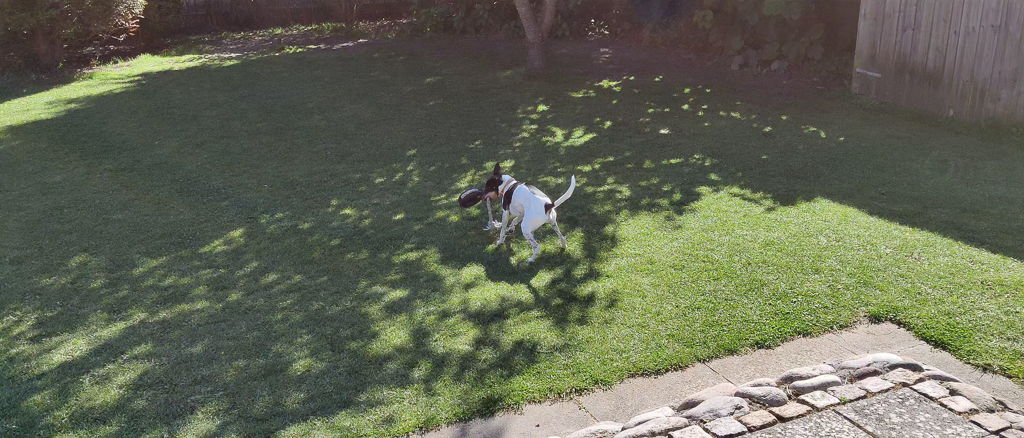Dog: (473, 151, 583, 267)
